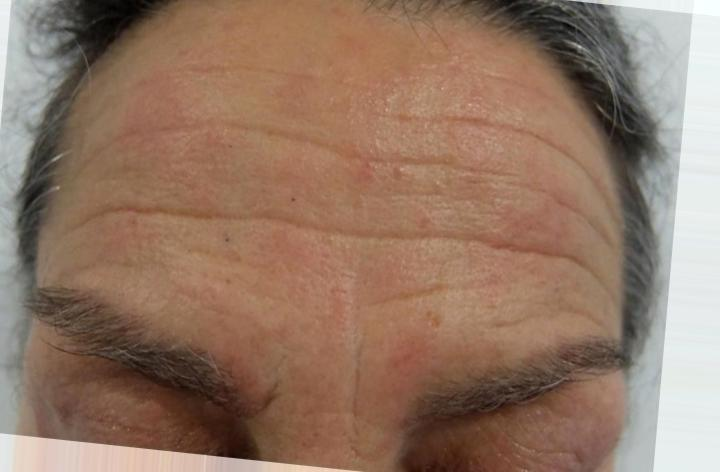Contact Dermatitis: (78, 60, 609, 315)
